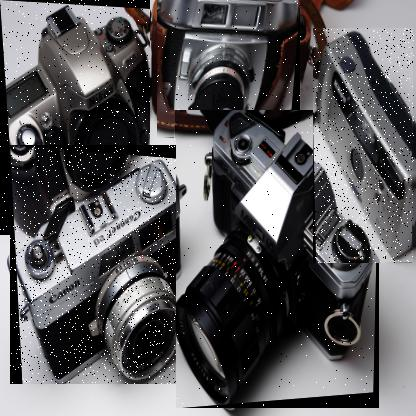Camera: (177, 111, 381, 410), (11, 146, 192, 386), (1, 1, 152, 237), (315, 30, 416, 266), (159, 1, 305, 140)
